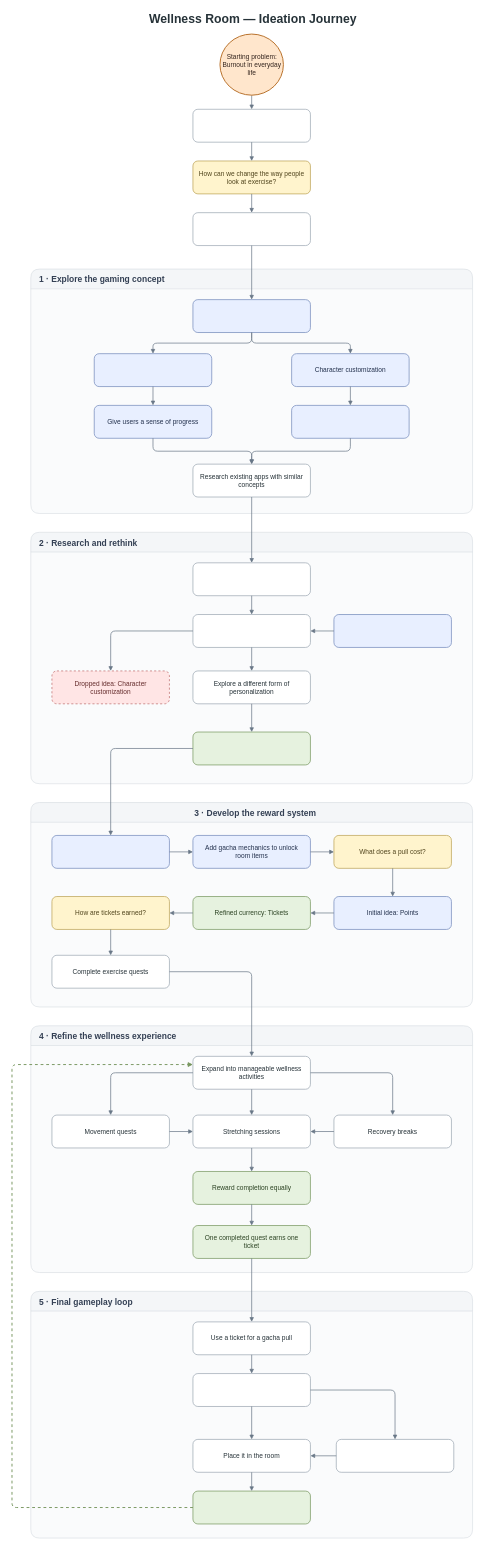
Some shapes in this 481 by 1546 pixel diagram are drawn without their labels. Each missing label, with the centre of its shape:
"Chosen direction: Customize a personal room" goes at point 251,748.
"Core idea: Merge exercise and gaming" goes at point 251,316.
"Discover similar ideas already exist" goes at point 251,579.
"Furniture and decorations become collectible rewards" goes at point 110,851.
"Give users personal rewards" goes at point 350,421.
"Gradually build a personal restorative space" goes at point 251,1507.
"Initial direction: Help people prioritize exercise" goes at point 251,125.
"Inspiration: PewDiePie's room-building game" goes at point 392,631.
"Keep it in inventory" goes at point 395,1455.
"Level-up system" goes at point 153,370.
"Make exercise feel engaging instead of another obligation" goes at point 251,229.
"Receive a furniture item" goes at point 251,1390.
"Reconsider the main game mechanic" goes at point 251,631.
